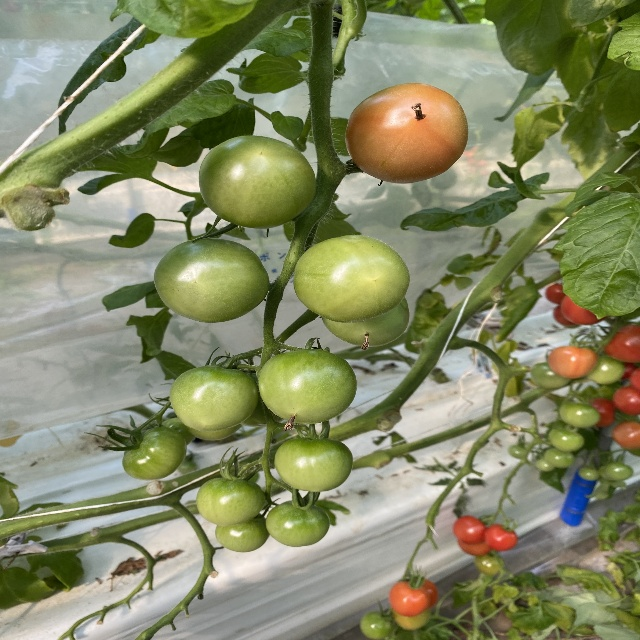l_fully_ripened: (390, 582, 430, 618), (560, 294, 606, 324), (603, 326, 640, 361), (451, 515, 484, 543), (484, 524, 517, 551), (612, 386, 640, 414)
l_green: (198, 133, 319, 229), (292, 234, 409, 323), (154, 236, 271, 323), (257, 348, 358, 425), (169, 366, 258, 431), (273, 435, 354, 492), (321, 294, 409, 346), (120, 427, 187, 482), (195, 476, 267, 527), (265, 501, 332, 547), (215, 512, 269, 552), (582, 354, 624, 385), (530, 361, 572, 388), (558, 402, 600, 427), (359, 612, 392, 638), (548, 429, 583, 450), (543, 446, 574, 468)
l_half_ripened: (345, 82, 468, 184), (547, 347, 598, 378), (612, 421, 640, 450)
